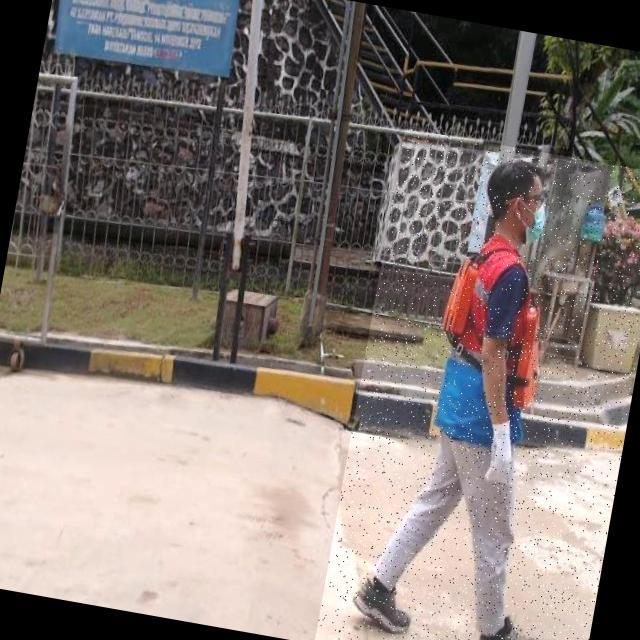Gloves: (476, 409, 527, 497)
Person: (328, 147, 569, 640)
Safety Boot: (349, 570, 421, 640), (471, 610, 551, 640)
Safety Vest: (421, 230, 562, 456)
no-helmet: (486, 155, 555, 192)
